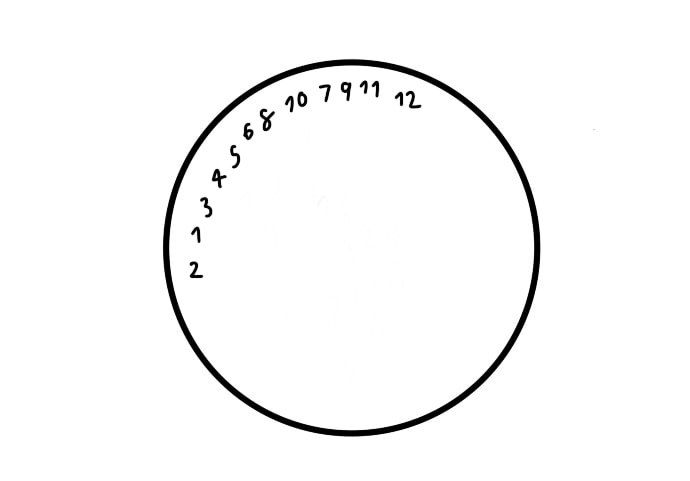eight: (258, 106, 276, 134)
eleven: (359, 77, 383, 100)
five: (227, 142, 244, 170)
four: (211, 169, 228, 192)
nine: (340, 81, 354, 101)
one: (188, 224, 204, 245)
seven: (317, 80, 333, 102)
six: (241, 120, 255, 141)
ten: (285, 92, 309, 113)
three: (197, 194, 215, 221)
twelve: (393, 86, 424, 111)
two: (188, 257, 203, 280)
